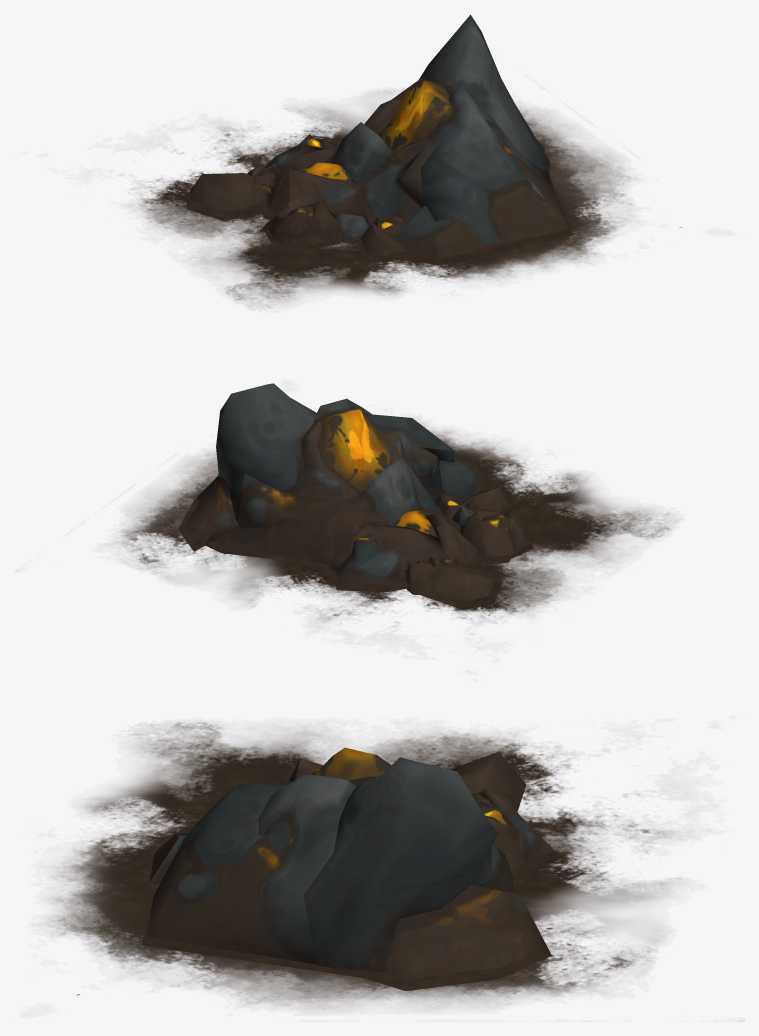
3 renders of one model, top to bottom at view 1: azimuth 30°, elevation 25°; view 2: azimuth 150°, elevation 25°; view 3: azimuth 270°, elevation 25°, orthographic. The views are drawn at different scales.
Parts seen in each view (by area): view 1: plants_gold_vein_b-0-vein, plants_gold_vein_b-1-underlay; view 2: plants_gold_vein_b-0-vein, plants_gold_vein_b-1-underlay; view 3: plants_gold_vein_b-0-vein, plants_gold_vein_b-1-underlay.
Part boxes in pixels (x1=…): plants_gold_vein_b-0-vein: x1=186, y1=14, x2=571, y2=265; plants_gold_vein_b-1-underlay: x1=132, y1=90, x2=681, y2=307; plants_gold_vein_b-0-vein: x1=180, y1=383, x2=533, y2=609; plants_gold_vein_b-1-underlay: x1=115, y1=423, x2=677, y2=626; plants_gold_vein_b-0-vein: x1=147, y1=747, x2=554, y2=990; plants_gold_vein_b-1-underlay: x1=50, y1=722, x2=679, y2=1009.
Bounding box in the file's own units: 6 × 1.68 × 6.
Materials: 2 (2 with a texture image).
